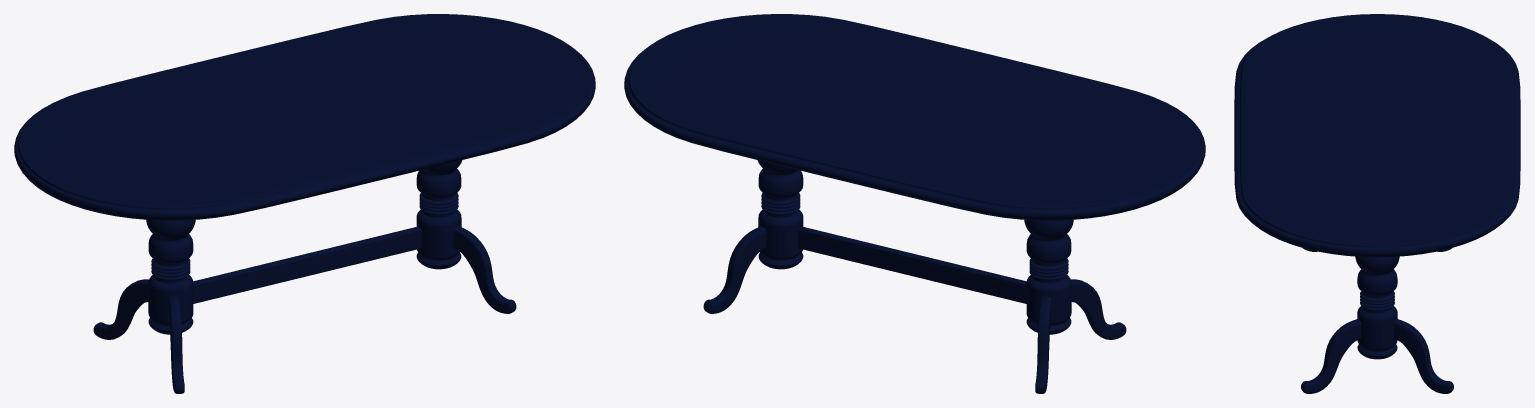
The model's file is dinner-table.fbx.
The picture shows the model from 3 angles, left to right: view 1: azimuth 30°, elevation 25°; view 2: azimuth 150°, elevation 25°; view 3: azimuth 270°, elevation 25°; orthographic projection. The views are drawn at different scales.
Parts seen in each view (by area): view 1: Dining table; view 2: Dining table; view 3: Dining table.
Boxes of the visible parts, x1,y1,x2,y2 form: Dining table: (14,14,595,393); Dining table: (624,14,1205,393); Dining table: (1234,14,1520,393).
Size of the model in its own units: 210 by 79.86 by 108.
